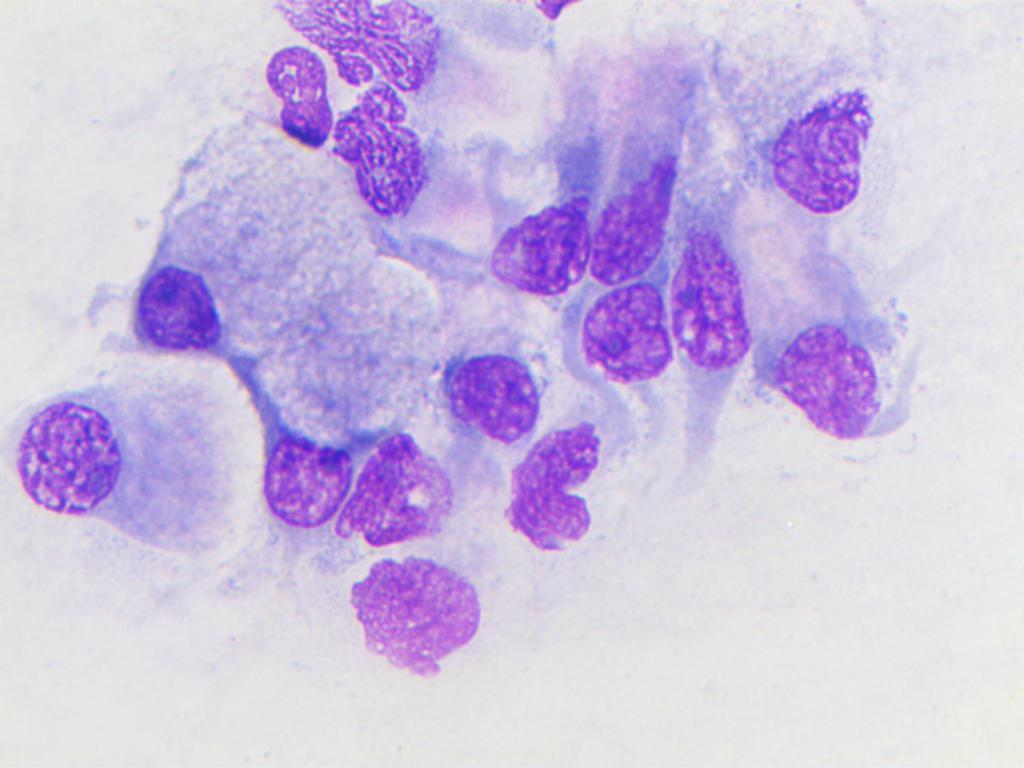artifact: (321, 548, 478, 674), (329, 418, 460, 550), (333, 73, 430, 235), (514, 411, 609, 554)
goblet_cell: (13, 379, 237, 557), (106, 176, 292, 367), (242, 323, 371, 530), (749, 311, 903, 465), (476, 104, 595, 297), (416, 290, 542, 448), (592, 89, 680, 283), (764, 78, 884, 215), (674, 218, 766, 385), (575, 271, 671, 390), (257, 41, 329, 153)
